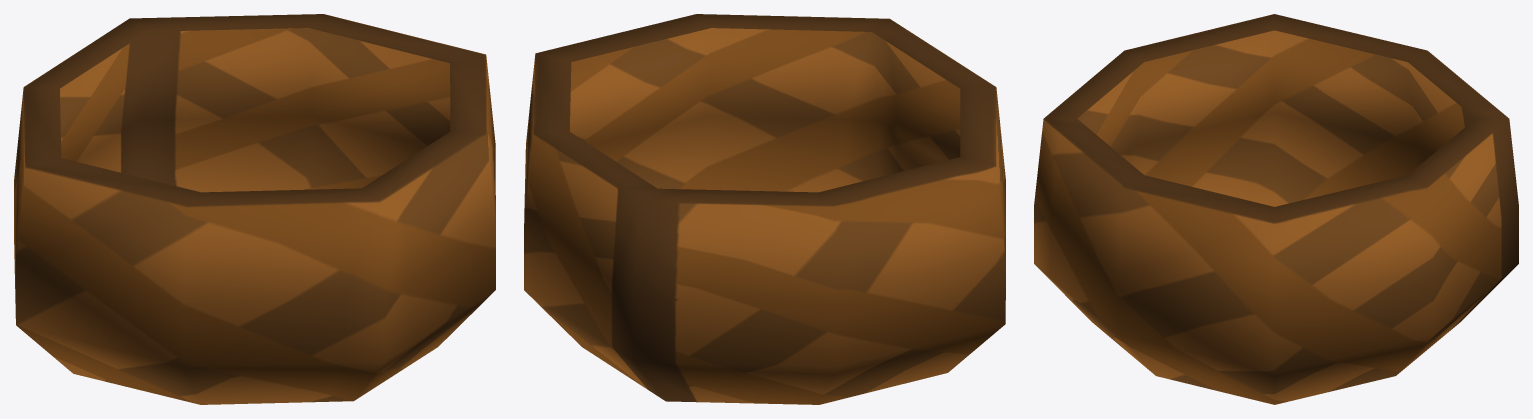
The model's file is Basket.fbx.
3 views of the same model, side by side, from view 1: azimuth 30°, elevation 25°; view 2: azimuth 150°, elevation 25°; view 3: azimuth 270°, elevation 25° (orthographic). The views are drawn at different scales.
Visible parts, largest first — view 1: Cube; view 2: Cube; view 3: Cube.
Part boxes in pixels (x1,y1,x2,y2): Cube: [14, 14, 495, 404]; Cube: [524, 14, 1005, 404]; Cube: [1034, 14, 1518, 404].
Bounding box in the file's own units: 776 × 338 × 730.
Materials: 1 (1 with a texture image).
